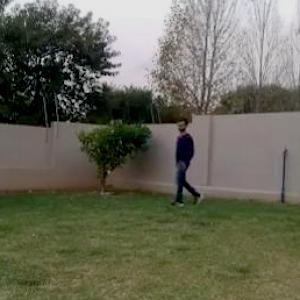follow: (172, 118, 195, 212)
